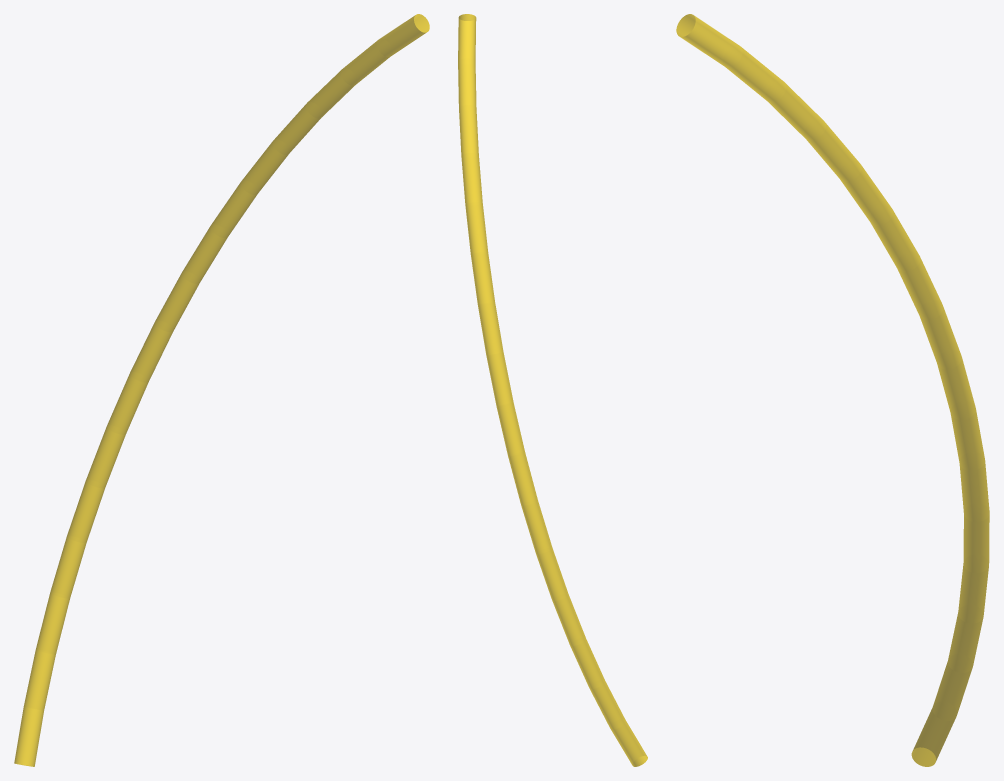
The model's file is Event_75125125_track_105.fbx.
3 renders of one model, left to right at view 1: azimuth 30°, elevation 25°; view 2: azimuth 150°, elevation 25°; view 3: azimuth 270°, elevation 25°, orthographic. The views are drawn at different scales.
Visible parts, largest first — view 1: Model; view 2: Model; view 3: Model.
Boxes of the visible parts, x1,y1,x2,y2 form: Model: (14,14,429,766); Model: (458,14,647,766); Model: (676,14,989,766).
Bounding box in the file's own units: 0.7039 × 1.59 × 0.4855.
